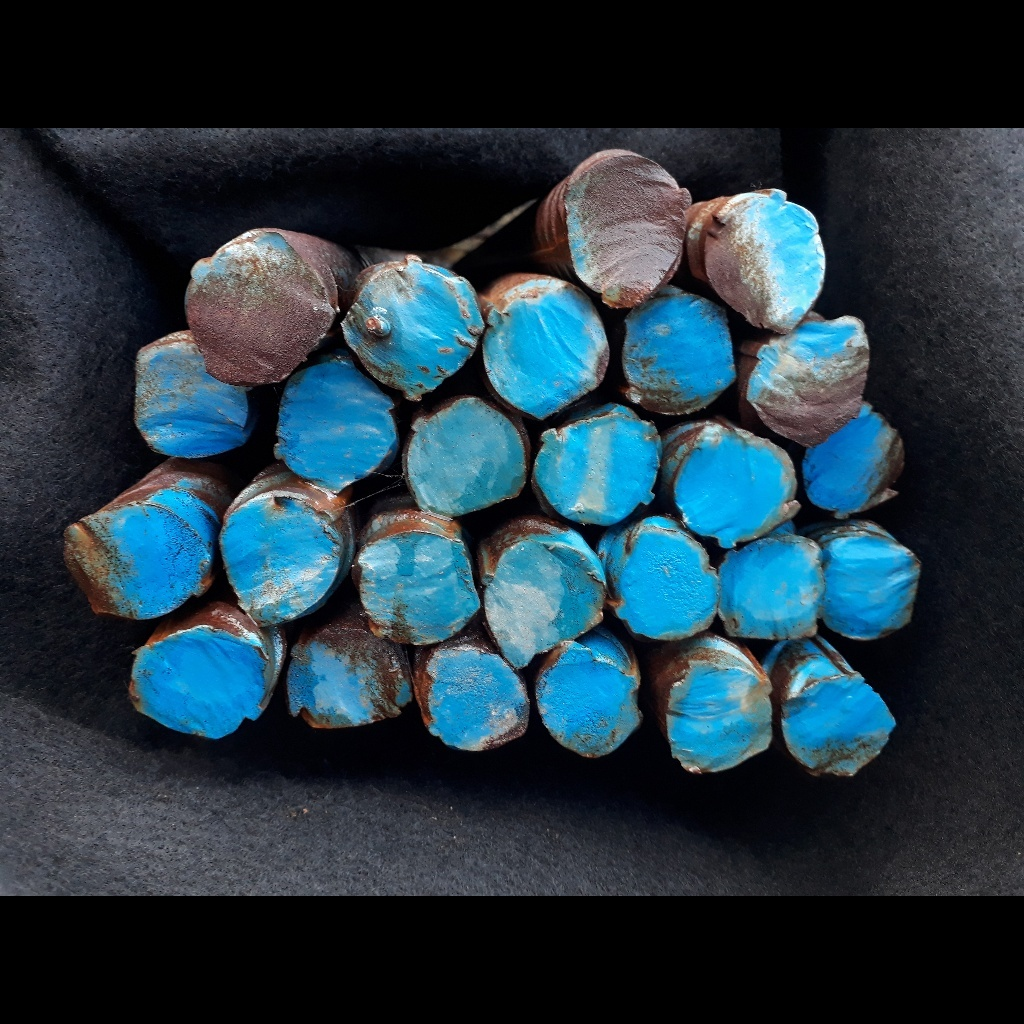dipstick: (180, 233, 331, 383), (346, 262, 486, 398), (566, 150, 687, 305), (707, 190, 829, 334), (65, 501, 210, 621), (276, 358, 402, 496), (745, 314, 872, 450), (484, 288, 611, 418), (672, 420, 801, 547), (483, 538, 608, 669), (217, 492, 337, 627), (134, 327, 253, 459), (130, 627, 267, 741), (405, 394, 528, 519), (355, 528, 482, 648), (779, 654, 898, 780), (618, 292, 737, 416), (533, 410, 656, 523), (288, 627, 414, 731), (535, 644, 646, 760), (802, 401, 907, 520), (664, 662, 772, 777), (613, 527, 719, 642), (821, 524, 921, 644), (717, 534, 825, 640), (426, 646, 530, 752)
